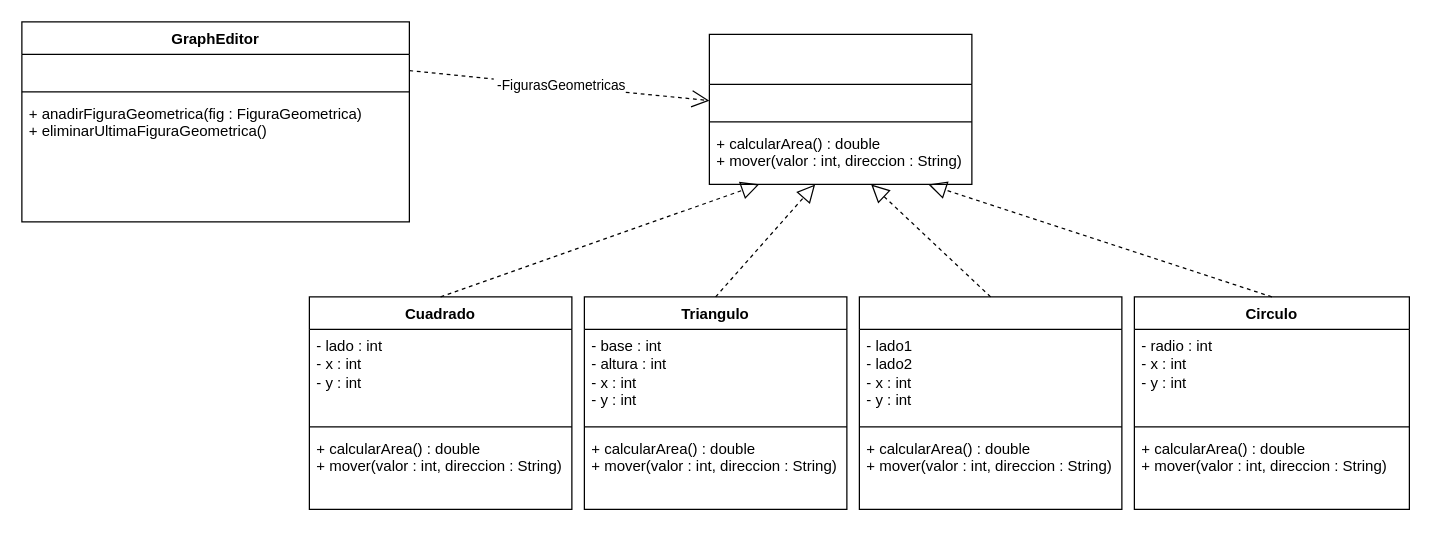
The diagram is 1431 pixels wide and 535 high, and some of its shapes have lost their labels. Each missing label, with the box of its shape:
<<interface>> FiguraGeometrica: (708, 33, 972, 184)
Rectangulo: (858, 296, 1122, 509)
